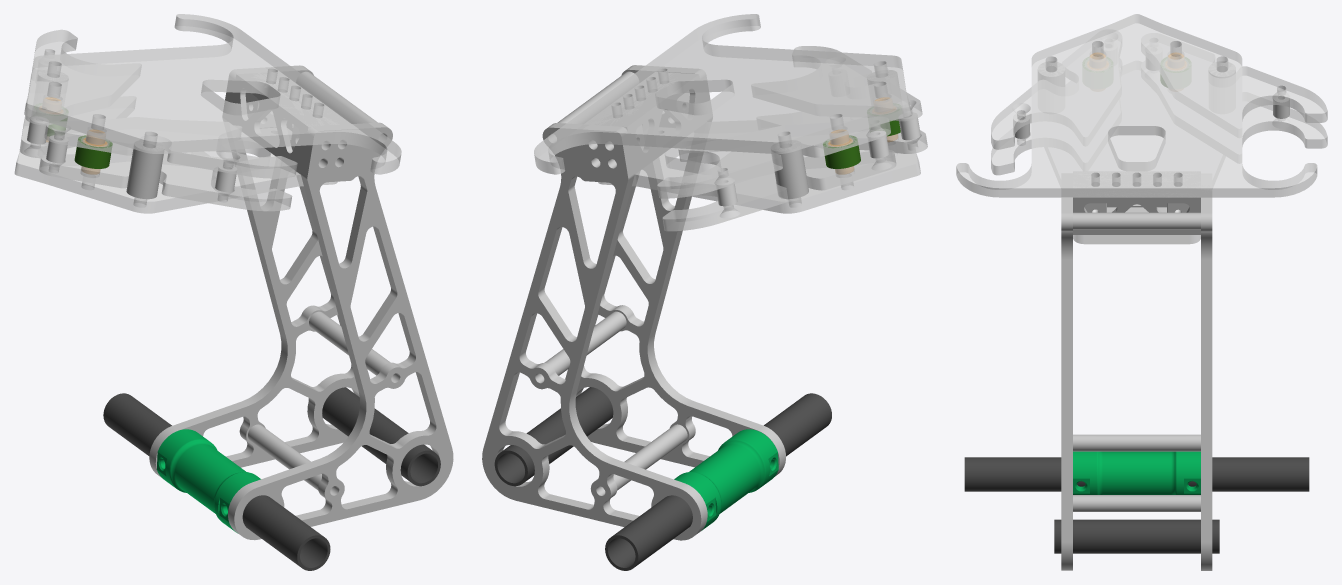
The picture shows the model from 3 angles, left to right: view 1: azimuth 30°, elevation 25°; view 2: azimuth 150°, elevation 25°; view 3: azimuth 270°, elevation 25°; orthographic projection. The views are drawn at different scales.
Visible parts, largest first — view 1: Climber L Plate (×2), Not Hook, Hook Piece (×4), Spear bottom, Reaction Bar, Climber Cross 1x1, 3dp Spacer for reaction bar, 2.812500" tap both end 10-32 (×3), 3.562500", Spear Standoff, Bushing Spacer; view 2: Climber L Plate (×2), Not Hook, Hook Piece (×4), Spear bottom, Reaction Bar, Climber Cross 1x1, 3dp Spacer for reaction bar, 2.812500" tap both end 10-32 (×3), 3.562500", Spear Standoff, Bushing Spacer; view 3: Not Hook, Hook Piece (×4), Climber L Plate (×2), Spear bottom, Reaction Bar, 2.812500" tap both end 10-32 (×3), 3dp Spacer for reaction bar, Climber Cross 1x1, 3.562500", Spear Standoff.
Boxes of the visible parts, x1,y1,x2,y2 form: Climber L Plate (×2): (149,65,453,540); Not Hook: (24,14,401,174); Hook Piece (×4): (20,29,297,211); Spear bottom: (14,119,337,213); Reaction Bar: (103,393,330,570); Climber Cross 1x1: (229,71,350,174); 3dp Spacer for reaction bar: (156,429,260,533); 2.812500" tap both end 10-32 (×3): (248,71,392,490); 3.562500": (322,387,440,486); Spear Standoff: (126,140,164,199); Bushing Spacer: (74,135,112,168); Climber L Plate (×2): (482,65,785,540); Not Hook: (534,14,911,174); Hook Piece (×4): (657,46,927,231); Spear bottom: (598,121,920,213); Reaction Bar: (605,393,831,570); Climber Cross 1x1: (584,72,706,174); 3dp Spacer for reaction bar: (674,429,778,530); 2.812500" tap both end 10-32 (×3): (544,71,687,490); 3.562500": (494,387,613,486); Spear Standoff: (771,140,808,199); Bushing Spacer: (823,135,860,168); Not Hook: (956,14,1317,197); Hook Piece (×4): (991,30,1327,175); Climber L Plate (×2): (1061,173,1212,570); Spear bottom: (1044,61,1225,244); Reaction Bar: (964,457,1309,491); 2.812500" tap both end 10-32 (×3): (1073,212,1200,511); 3dp Spacer for reaction bar: (1073,451,1200,494); Climber Cross 1x1: (1073,171,1200,234); 3.562500": (1054,519,1219,553); Spear Standoff: (1038,61,1064,86).
Size of the model in its own units: 0.2264 by 0.247 by 0.2068.
